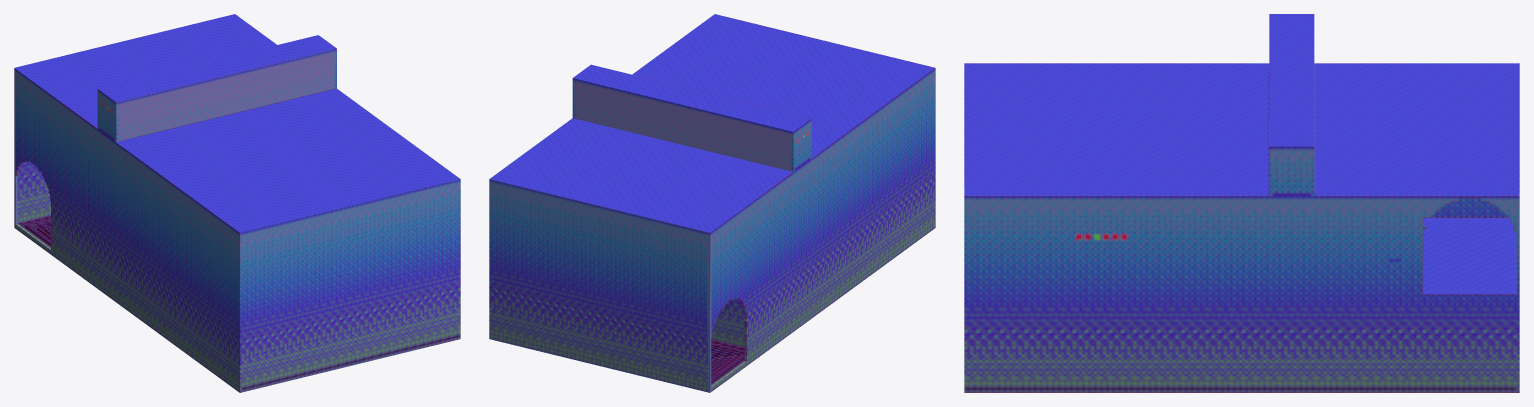
The model's file is HuecosNoBug.fbx.
The picture shows the model from 3 angles, left to right: view 1: azimuth 30°, elevation 25°; view 2: azimuth 150°, elevation 25°; view 3: azimuth 270°, elevation 25°; orthographic projection. The views are drawn at different scales.
Visible parts, largest first — view 1: Untitled.022; view 2: Untitled.022; view 3: Untitled.022.
Part boxes in pixels (x1,y1,x2,y2): Untitled.022: (14,14,460,392); Untitled.022: (489,14,935,392); Untitled.022: (964,14,1519,392).
Bounding box in the file's own units: 10.4 × 9 × 18.4.
